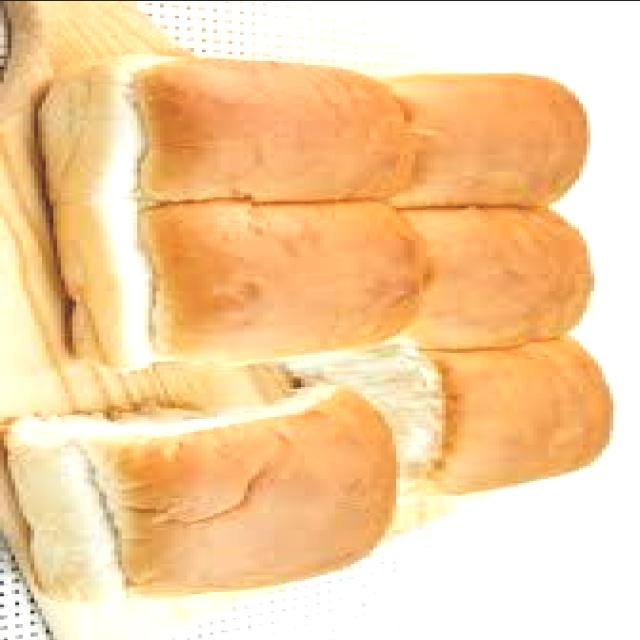roti tawar: (3, 382, 386, 632), (60, 190, 419, 388)
